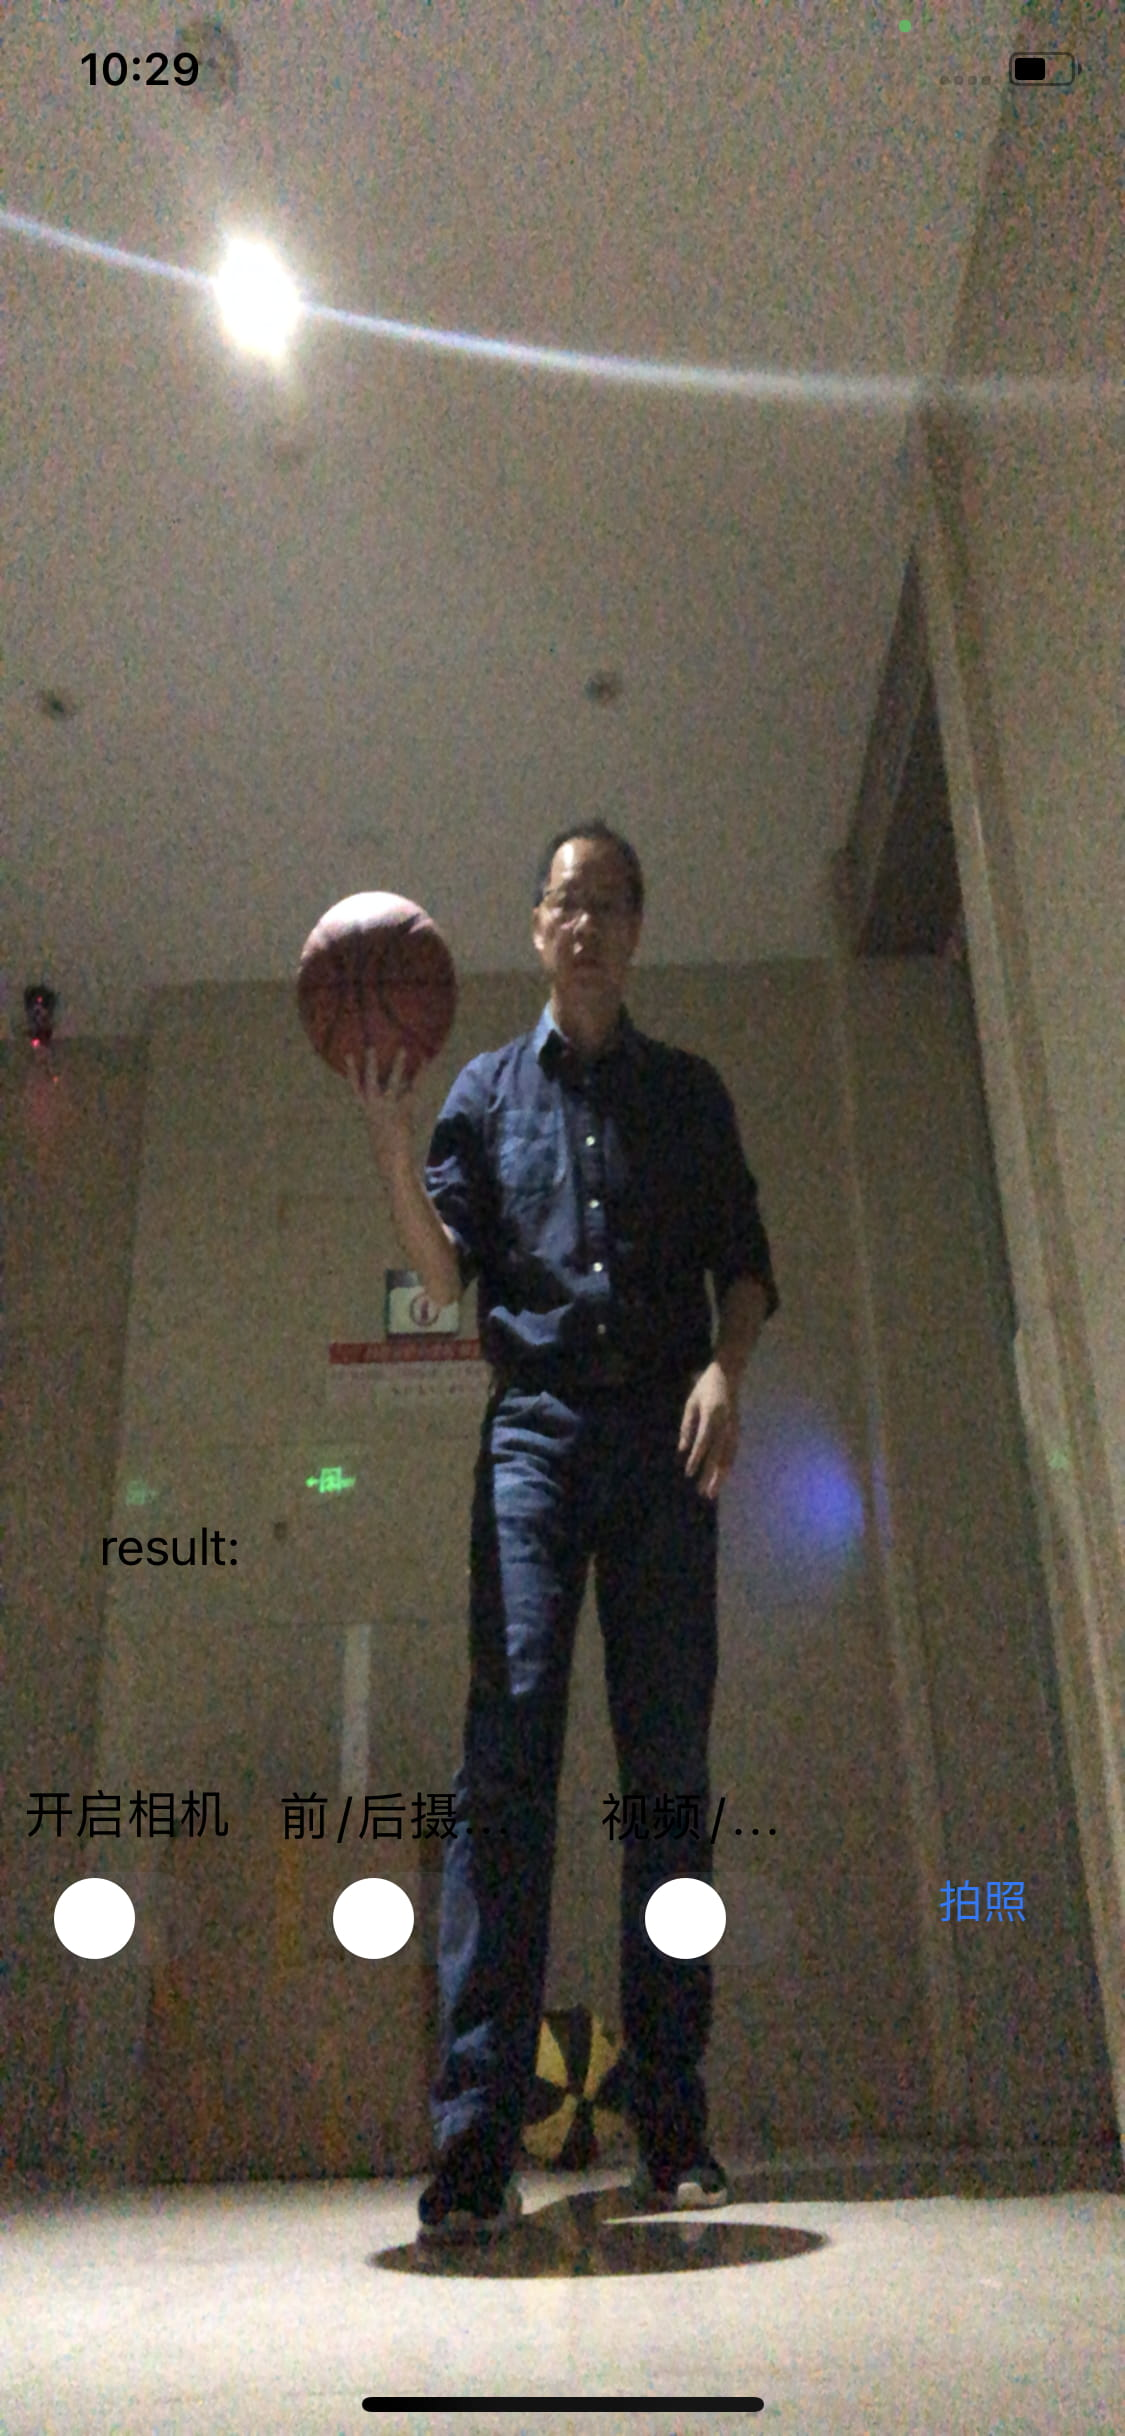ball: (295, 886, 455, 1086)
